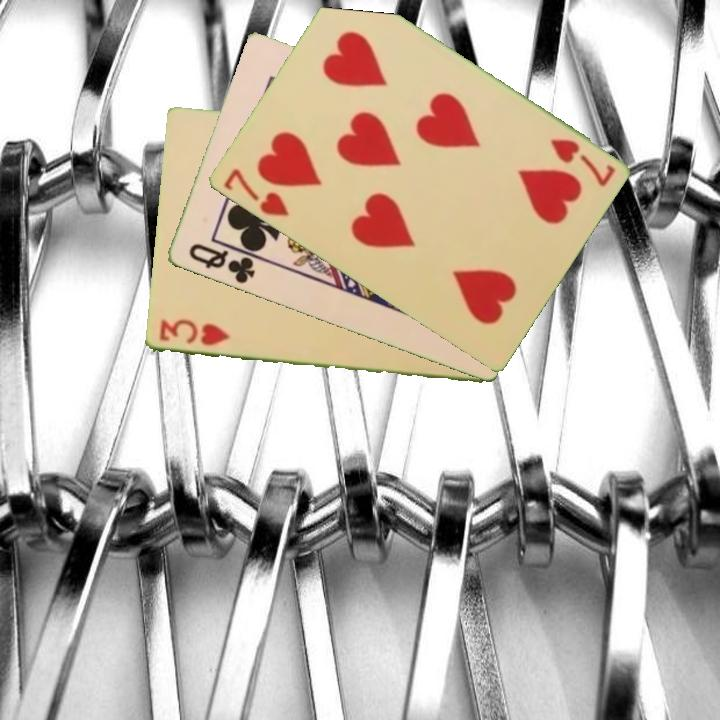3h: (155, 316, 232, 349)
7h: (219, 165, 292, 220), (546, 135, 618, 190)
Qc: (184, 240, 258, 287)
